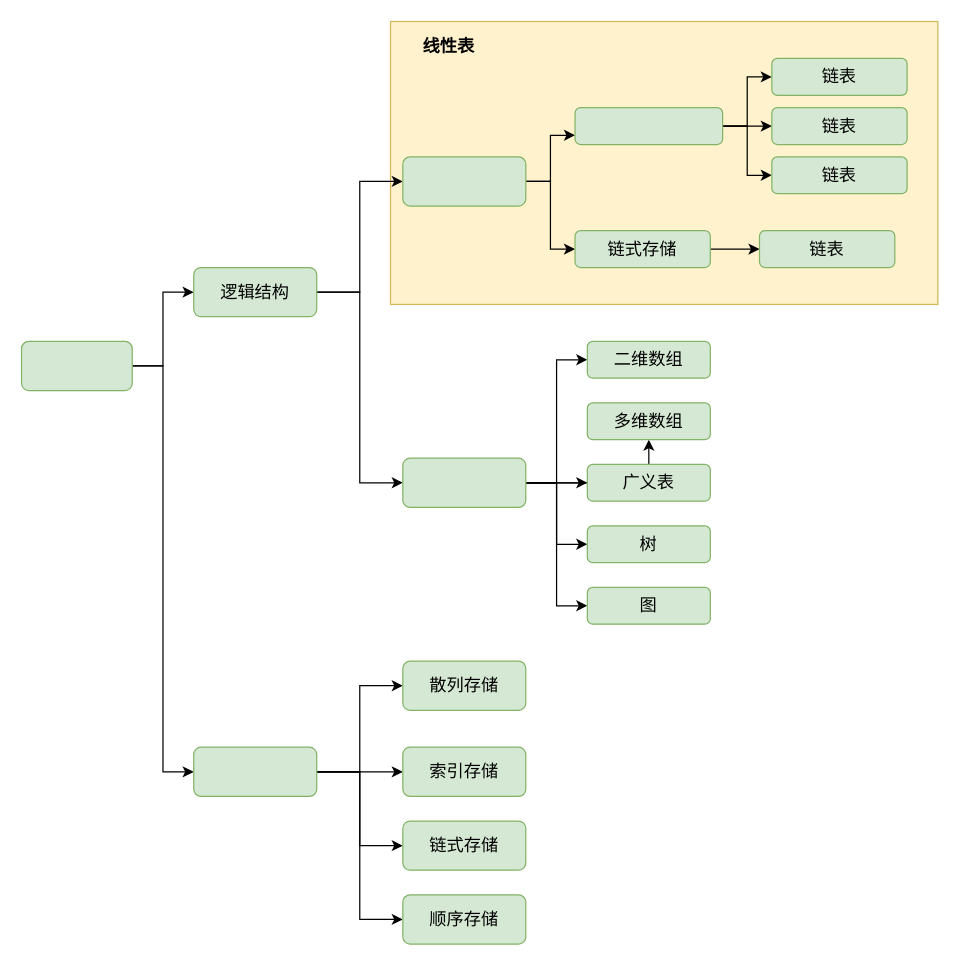
Image size: 959x966. Some labels were removed from this diagram. The centre of each missing label's shape, as x and y in pixels:
存储结构[物理]: [254,771]
数据结构: [76,365]
线性结构: [464,181]
非线性结构: [464,482]
顺序存储[顺序表]: [648,125]
